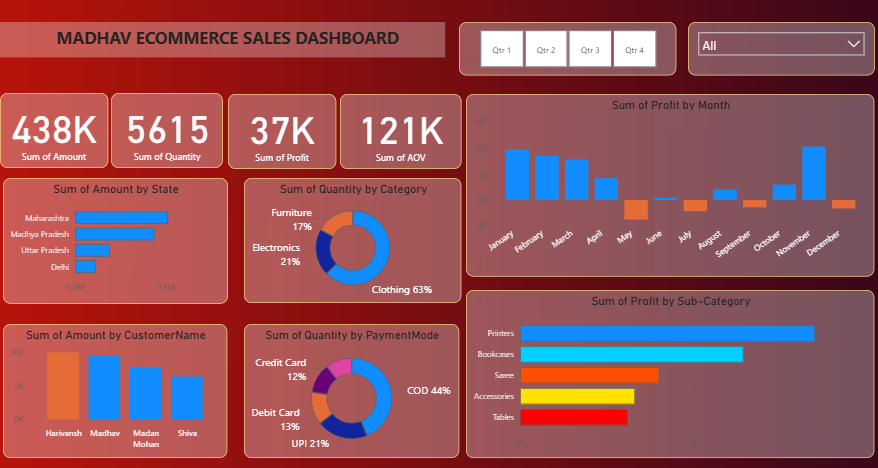

What the dashboard file says about the page in this screenshot:
{"tool":"powerbi","page":{"name":"Page 1","canvas":[1280,720],"ordinal":0},"visuals":[{"type":"textbox","box":[10.7,51.4,641.4,51.4],"z":0},{"type":"columnChart","fields":{"Category":["Orders.Order Date.Variation.Date Hierarchy.Month"],"Y":["Sum(Details.Profit)"]},"box":[681.7,155,588.3,263.3],"z":1000},{"type":"barChart","fields":{"Category":["Details.Sub-Category"],"Y":["Sum(Details.Profit)"]},"box":[681.7,438.3,588.3,241.7],"z":2000},{"type":"donutChart","fields":{"Category":["Details.Category"],"Y":["Sum(Details.Quantity)"]},"box":[361.7,276.7,313.3,180],"z":3000},{"type":"donutChart","fields":{"Y":["Sum(Details.Quantity)"],"Category":["Details.PaymentMode"]},"box":[361.7,486.7,310,193.3],"z":4000},{"type":"card","fields":{"Values":["Sum(Details.Amount)"]},"box":[10.6,154.4,155.6,108.3],"z":5000},{"type":"card","fields":{"Values":["Sum(Details.Quantity)"]},"box":[170.5,154.4,161.4,108.3],"z":6000},{"type":"card","fields":{"Values":["Sum(Details.Profit)"]},"box":[338.5,155.8,155.9,107.6],"z":7000},{"type":"card","fields":{"Values":["Sum(Details.AOV)"]},"box":[499.7,155.8,175.3,107.6],"z":8000},{"type":"barChart","fields":{"Category":["Orders.State"],"Y":["Sum(Details.Amount)"]},"box":[15,276,323.6,180.7],"z":9000},{"type":"columnChart","fields":{"Category":["Orders.CustomerName"],"Y":["Sum(Details.Amount)"]},"box":[15,486.7,323.3,193.3],"z":10000},{"type":"slicer","fields":{"Values":["Orders.Order Date.Variation.Date Hierarchy.Quarter"]},"box":[671.4,51.4,312.9,77.1],"z":11000},{"type":"slicer","fields":{"Values":["Orders.State"]},"box":[1001.4,51.4,268.6,77.1],"z":12000}]}

Visuals, with their boxes in screenshot pixels (x1, y1, x2, y2):
textbox: rect(1, 17, 443, 53)
columnChart - Orders.Order Date.Variation.Date Hierarchy.Month x Sum(Details.Profit): rect(464, 89, 870, 270)
barChart - Details.Sub-Category x Sum(Details.Profit): rect(464, 284, 870, 451)
donutChart - Details.Category x Sum(Details.Quantity): rect(243, 173, 459, 297)
donutChart - Sum(Details.Quantity) x Details.PaymentMode: rect(243, 318, 457, 451)
card - Sum(Details.Amount): rect(0, 88, 108, 163)
card - Sum(Details.Quantity): rect(111, 88, 222, 163)
card - Sum(Details.Profit): rect(227, 89, 334, 163)
card - Sum(Details.AOV): rect(338, 89, 459, 163)
barChart - Orders.State x Sum(Details.Amount): rect(3, 172, 227, 297)
columnChart - Orders.CustomerName x Sum(Details.Amount): rect(3, 318, 227, 451)
slicer - Orders.Order Date.Variation.Date Hierarchy.Quarter: rect(456, 17, 672, 70)
slicer - Orders.State: rect(684, 17, 870, 70)
